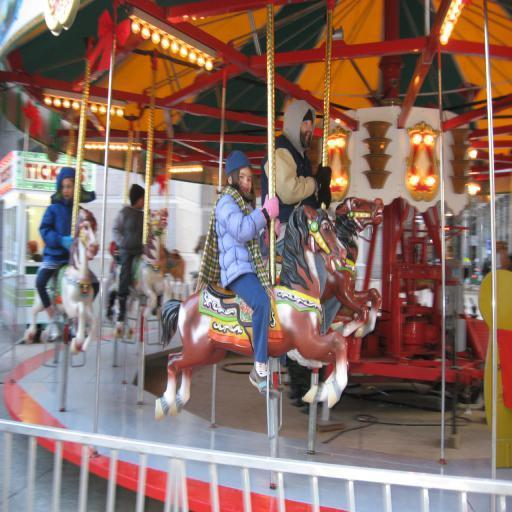horse: (154, 200, 347, 424), (260, 197, 384, 340), (16, 210, 98, 356), (106, 208, 172, 337)
